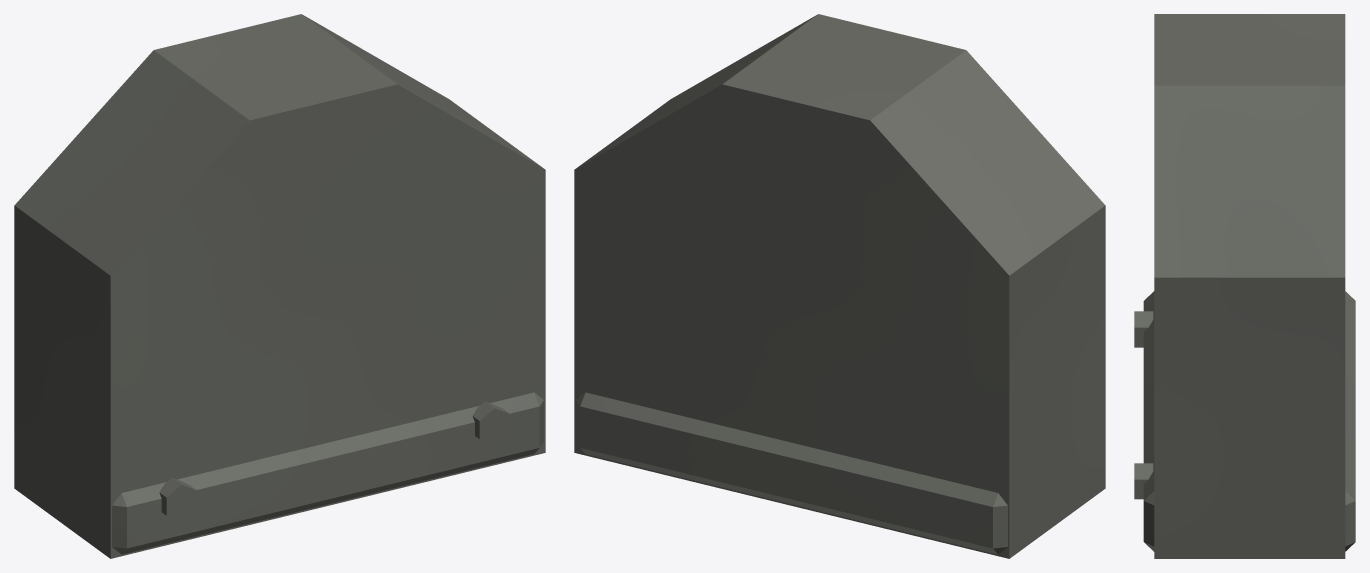
File: WarrensC_CCS26_PawlCover_Mars_SM.fbx
The picture shows the model from 3 angles, left to right: view 1: azimuth 30°, elevation 25°; view 2: azimuth 150°, elevation 25°; view 3: azimuth 270°, elevation 25°; orthographic projection.
Parts seen in each view (by area): view 1: WarrensC_CCS26_PawlCover_Mars_SM.001; view 2: WarrensC_CCS26_PawlCover_Mars_SM.001; view 3: WarrensC_CCS26_PawlCover_Mars_SM.001.
Boxes of the visible parts, x1,y1,x2,y2 form: WarrensC_CCS26_PawlCover_Mars_SM.001: (14,14,545,558); WarrensC_CCS26_PawlCover_Mars_SM.001: (574,14,1105,558); WarrensC_CCS26_PawlCover_Mars_SM.001: (1134,14,1355,558).
Size of the model in its own units: 45 by 20 by 40.
